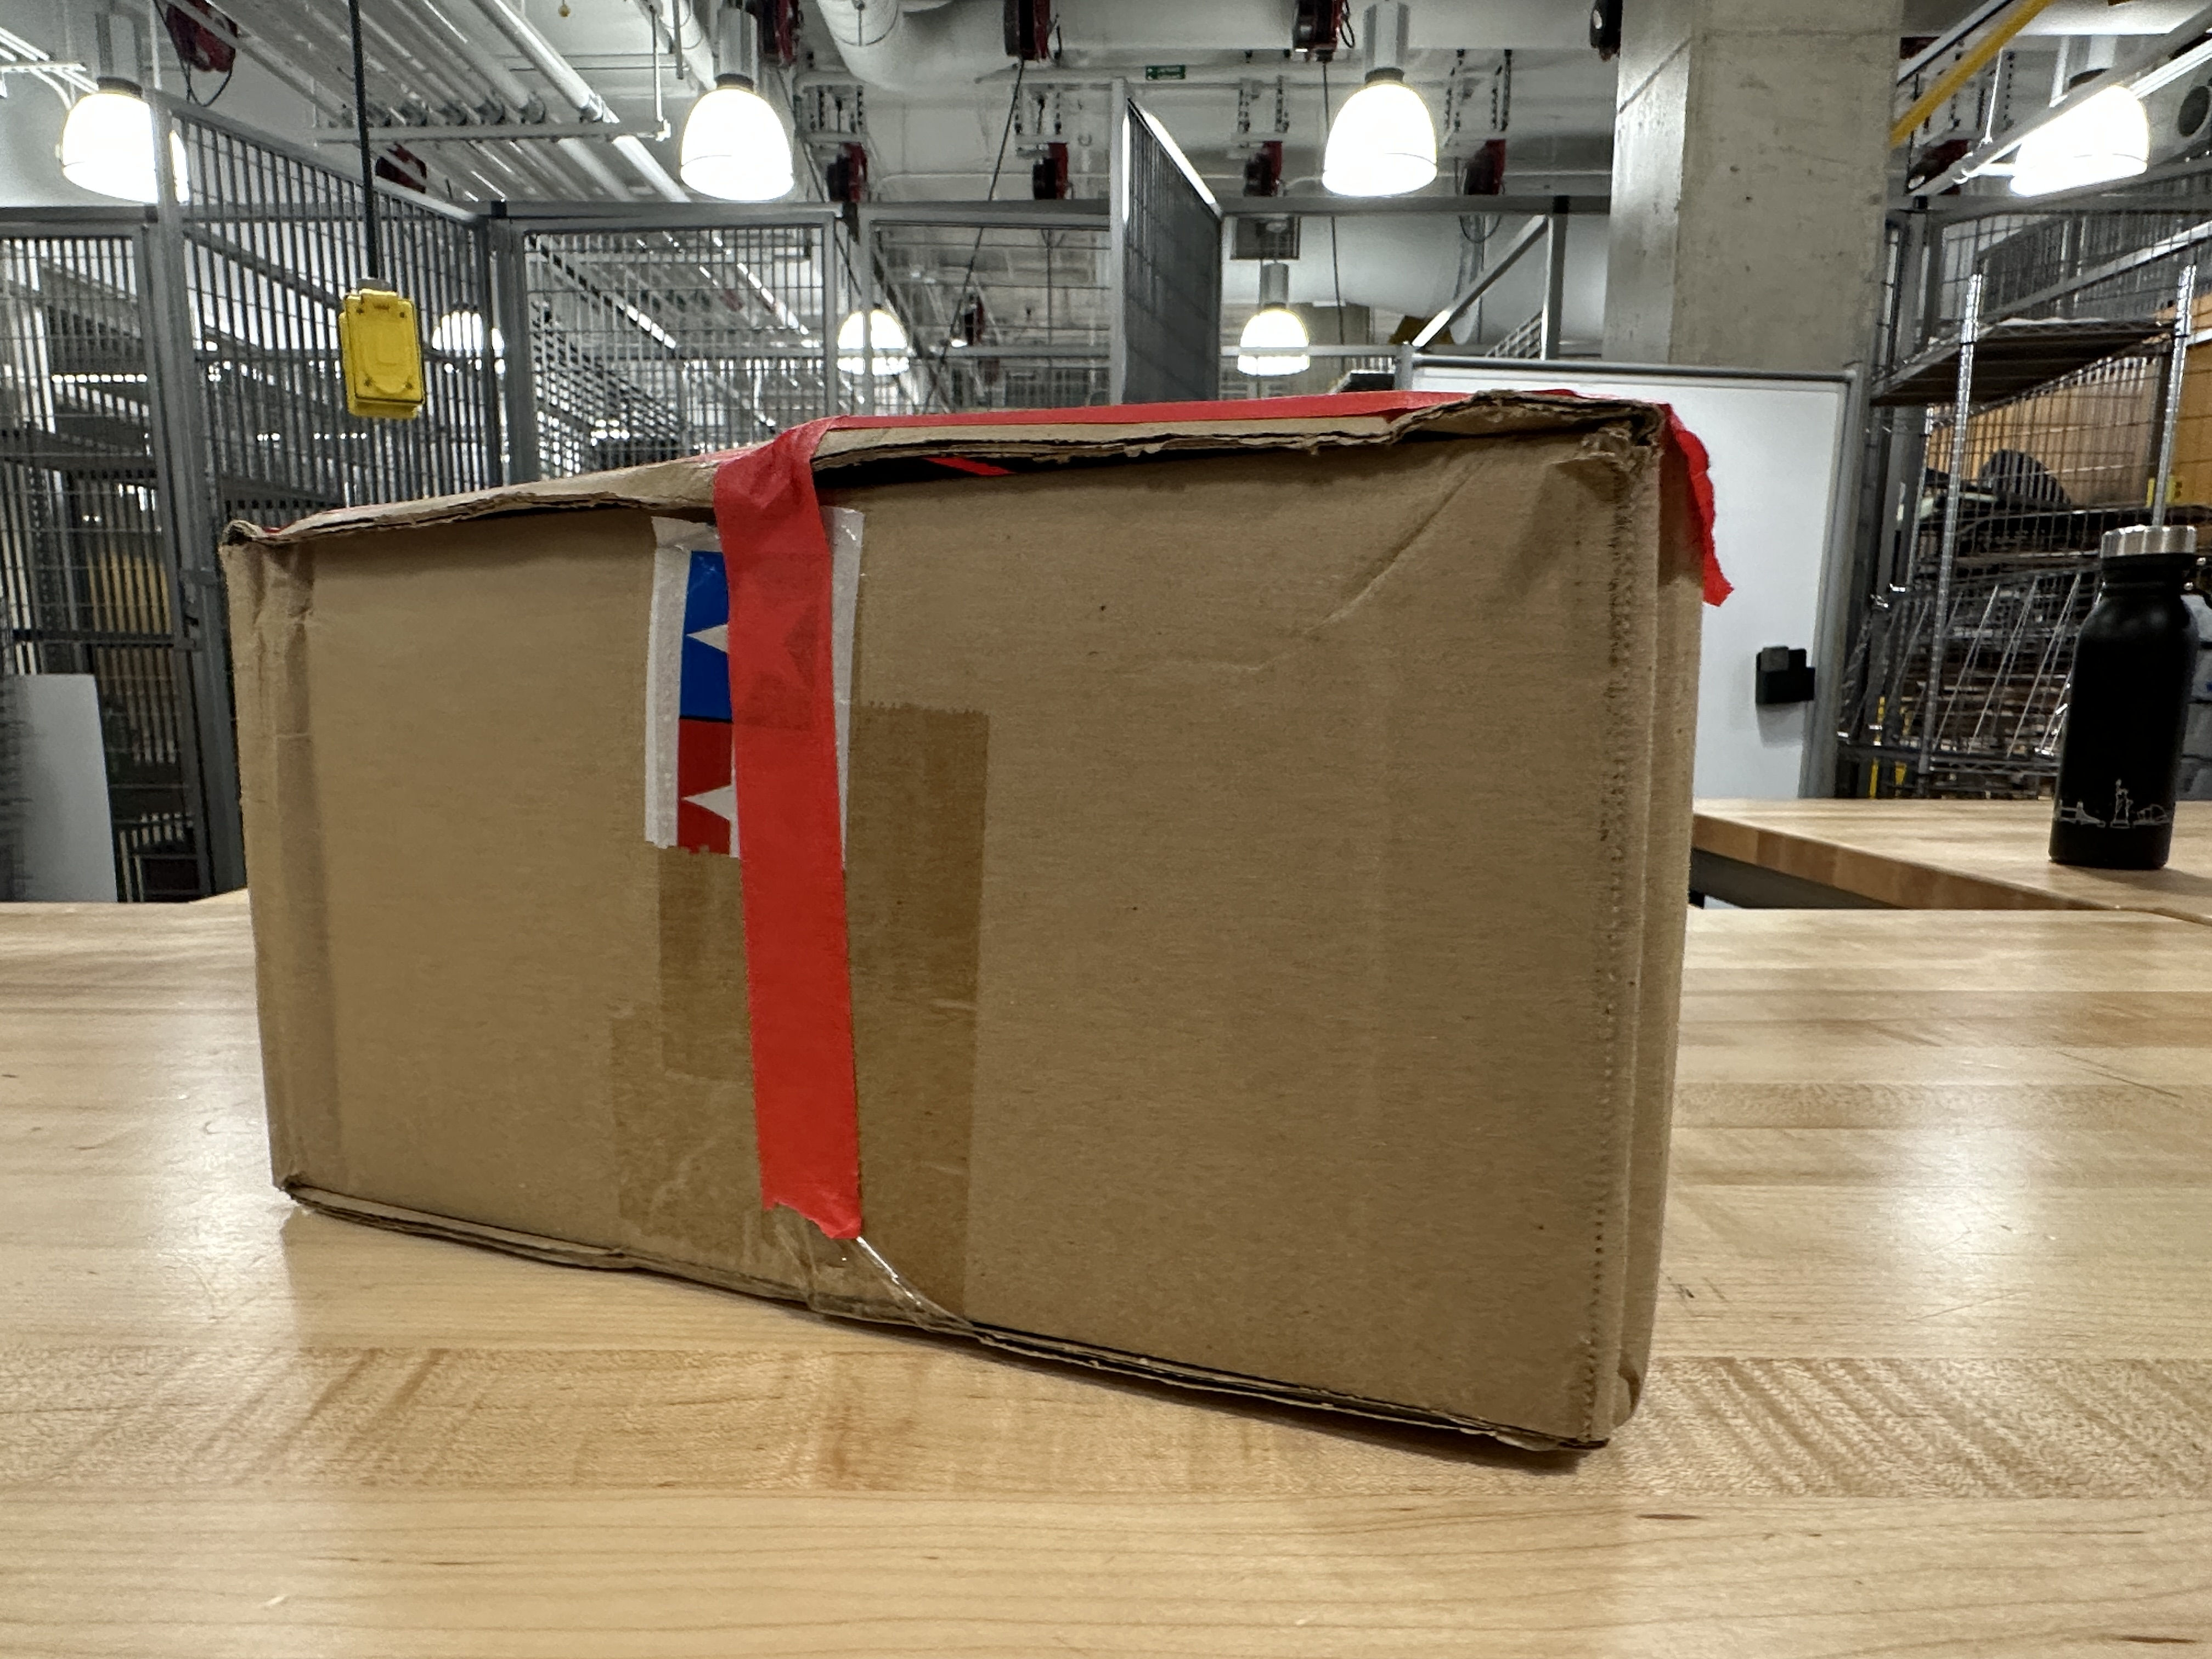Box_Obstacle: (200, 366, 1750, 1497)
